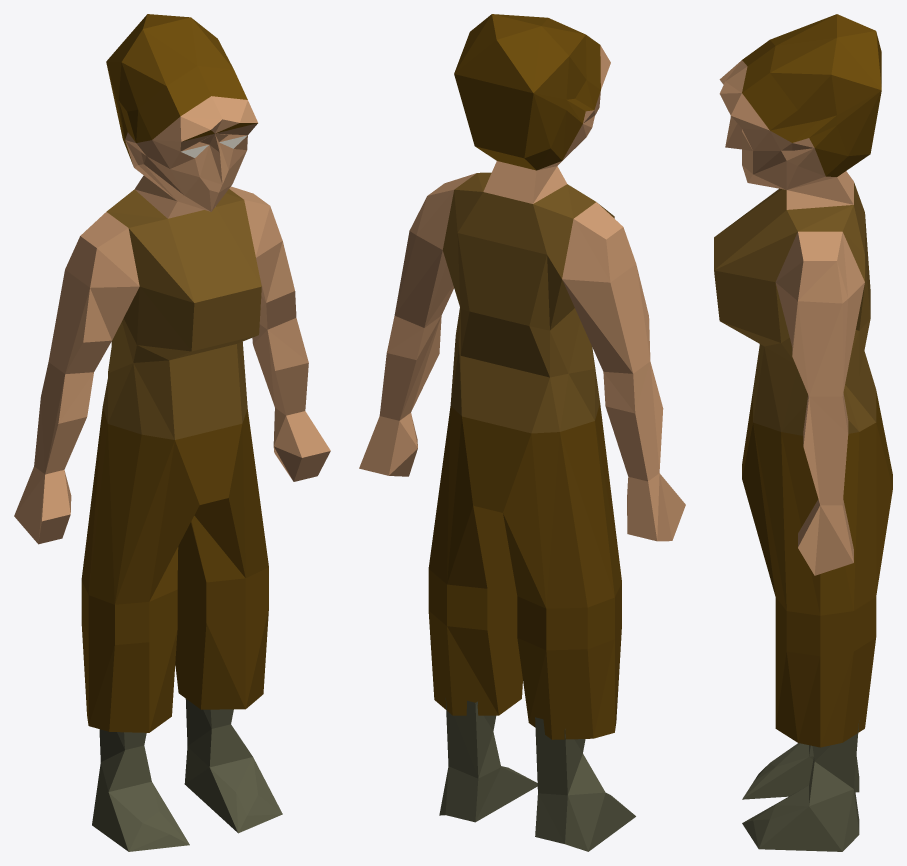
File: mining-guild.gltf
3 renders of one model, left to right at view 1: azimuth 30°, elevation 25°; view 2: azimuth 150°, elevation 25°; view 3: azimuth 270°, elevation 25°, orthographic. The views are drawn at different scales.
Bounding box in the file's own units: 60 × 156 × 32.
Materials: 1 (1 with a texture image).
